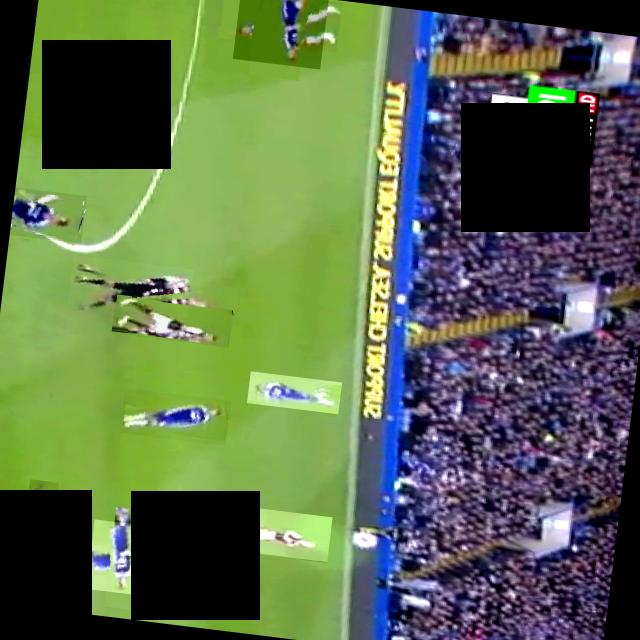referee: (66, 255, 192, 318)
soccer-player: (216, 504, 332, 562), (231, 0, 327, 69), (118, 388, 230, 446), (110, 295, 232, 347), (0, 496, 77, 577), (84, 518, 162, 596), (8, 187, 86, 243), (246, 371, 340, 414)
